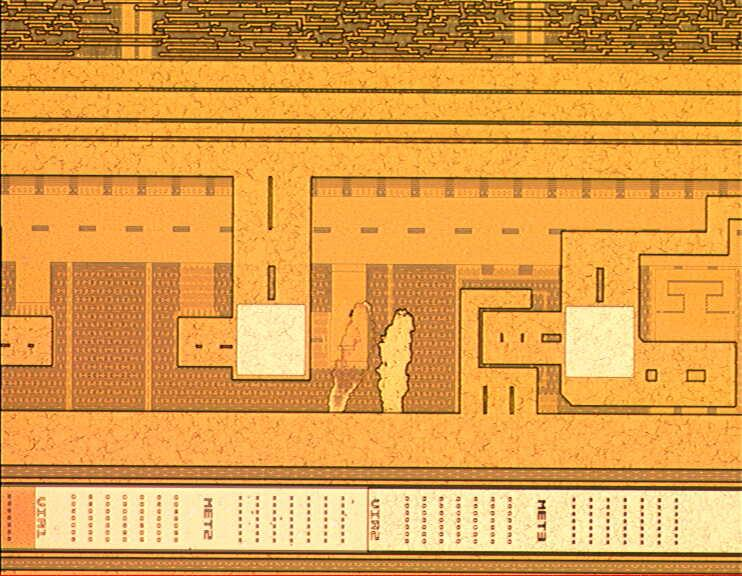BLOCK ETCH: (321, 298, 432, 414)
